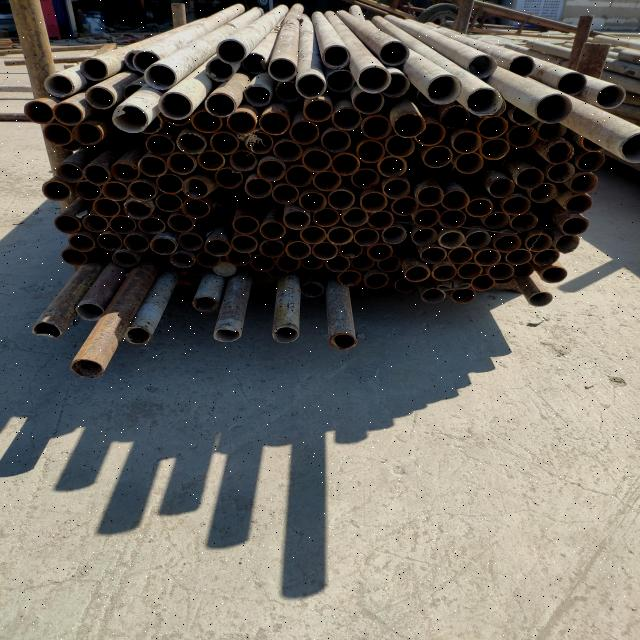pipe: (534, 95, 576, 124), (112, 105, 154, 134), (424, 74, 464, 104), (466, 87, 504, 117), (203, 89, 237, 119), (392, 111, 429, 138), (158, 91, 192, 120), (350, 90, 390, 114), (67, 356, 107, 380), (357, 66, 391, 94), (595, 82, 628, 110), (72, 121, 106, 148), (412, 121, 448, 146), (380, 72, 412, 100), (52, 102, 84, 130), (378, 40, 412, 66), (293, 74, 327, 100), (574, 152, 614, 174), (543, 141, 579, 165), (287, 121, 323, 145), (620, 125, 640, 168), (422, 144, 457, 168), (452, 152, 487, 176), (43, 73, 75, 99), (215, 39, 248, 64), (84, 85, 118, 109), (507, 126, 541, 150), (302, 99, 336, 122), (134, 50, 160, 80), (22, 100, 52, 126), (479, 140, 514, 162), (362, 116, 394, 140), (451, 130, 483, 154), (568, 170, 600, 194), (546, 160, 578, 184), (322, 42, 350, 69), (79, 56, 108, 82), (327, 69, 357, 94), (226, 112, 260, 134), (438, 106, 472, 128), (556, 72, 588, 95), (270, 56, 298, 82), (508, 54, 538, 78), (302, 148, 332, 172), (272, 140, 302, 164), (210, 130, 240, 154), (468, 54, 500, 76), (529, 182, 561, 204), (204, 58, 233, 82), (44, 123, 73, 147), (273, 82, 303, 105), (244, 131, 274, 154), (415, 185, 445, 208), (331, 110, 362, 132), (378, 155, 409, 177), (41, 180, 72, 202), (536, 122, 570, 142), (326, 332, 360, 352), (262, 112, 290, 136), (322, 129, 352, 151), (356, 140, 386, 162), (176, 132, 206, 154), (350, 167, 380, 189), (256, 159, 286, 181), (244, 178, 274, 200), (214, 168, 244, 190), (270, 324, 300, 346), (209, 326, 242, 346), (30, 319, 60, 341), (76, 300, 106, 322), (167, 152, 194, 176), (240, 52, 268, 75), (478, 118, 510, 138), (386, 137, 418, 157), (514, 168, 546, 188), (488, 178, 520, 198), (552, 234, 584, 254), (509, 213, 541, 233), (194, 111, 223, 133), (56, 160, 82, 184), (284, 165, 312, 187), (228, 150, 256, 172), (196, 150, 224, 172), (138, 155, 166, 177), (299, 191, 327, 213), (124, 325, 152, 347), (562, 195, 596, 213), (509, 106, 538, 127), (413, 209, 442, 230), (500, 196, 532, 215), (441, 190, 471, 210), (382, 178, 412, 198), (312, 170, 342, 190), (124, 199, 154, 219), (180, 200, 212, 218), (332, 153, 358, 175), (147, 133, 173, 155), (112, 160, 138, 182), (438, 210, 468, 229), (311, 208, 341, 227), (157, 173, 184, 194), (243, 86, 271, 106), (466, 198, 494, 218), (391, 196, 419, 216), (360, 192, 388, 212), (272, 184, 300, 204), (182, 178, 210, 198), (154, 193, 182, 213), (54, 214, 82, 234), (559, 217, 591, 234), (483, 213, 513, 231), (101, 182, 128, 202), (487, 264, 517, 282), (472, 248, 502, 266), (366, 242, 396, 260), (167, 213, 194, 233), (90, 198, 120, 216), (84, 164, 109, 185), (430, 264, 459, 282), (526, 232, 552, 252), (284, 210, 310, 230), (232, 214, 258, 234), (327, 226, 354, 245), (493, 234, 521, 252), (466, 230, 494, 248), (403, 264, 431, 282), (366, 211, 394, 229), (260, 220, 288, 238), (204, 238, 232, 256), (138, 216, 166, 234), (328, 190, 353, 210), (124, 233, 150, 252), (190, 295, 217, 313), (177, 232, 204, 250), (111, 250, 138, 268), (75, 180, 99, 200), (530, 250, 560, 266), (524, 292, 554, 308), (340, 208, 368, 225), (194, 251, 222, 268), (354, 227, 379, 246), (128, 182, 154, 200), (439, 231, 465, 249), (286, 242, 312, 260), (68, 234, 94, 252), (60, 248, 86, 266), (411, 228, 438, 245), (82, 215, 109, 232), (471, 274, 496, 292), (458, 262, 483, 280), (136, 120, 164, 136), (420, 247, 448, 263), (336, 270, 364, 286), (299, 227, 327, 243), (210, 260, 238, 276), (450, 288, 476, 305), (250, 255, 276, 272), (109, 216, 135, 233), (90, 246, 112, 266), (504, 250, 533, 265), (381, 227, 408, 243), (225, 251, 252, 267), (96, 232, 120, 250), (579, 136, 604, 153), (448, 247, 473, 264), (325, 255, 350, 272), (539, 268, 569, 282), (125, 48, 141, 74), (420, 288, 446, 304), (376, 256, 402, 272), (365, 274, 391, 290), (312, 243, 338, 259), (168, 113, 192, 130), (350, 253, 374, 270), (150, 238, 174, 255), (394, 276, 419, 292), (120, 82, 142, 100), (258, 242, 286, 256), (512, 262, 536, 278), (338, 241, 362, 257), (299, 255, 323, 271), (232, 237, 256, 253), (276, 257, 301, 272), (170, 252, 193, 268), (417, 92, 441, 106), (301, 284, 323, 298), (493, 276, 518, 288), (436, 284, 472, 292)
